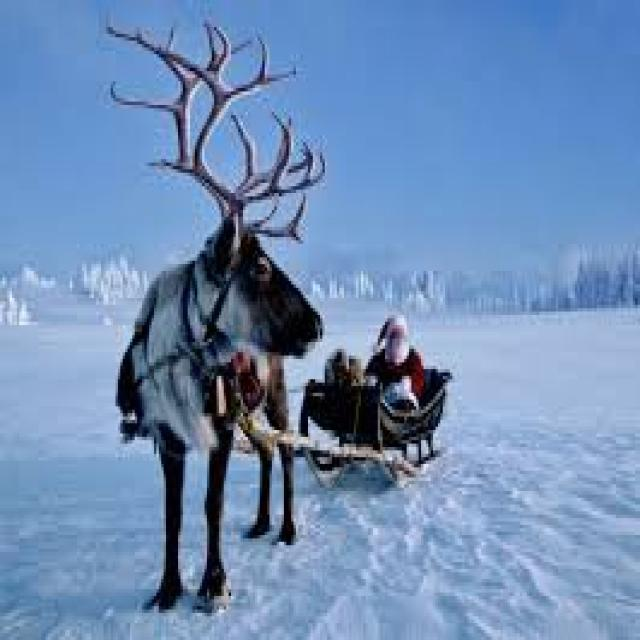Reindeer: (87, 5, 331, 625)
